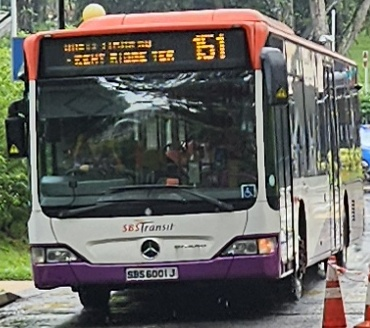bus: (181, 29, 232, 65)
